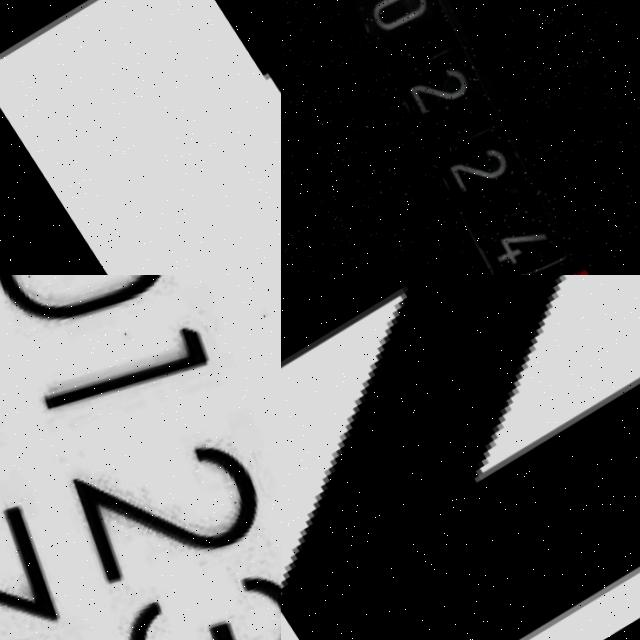0: (0, 275, 217, 379), (354, 0, 438, 43)
1: (5, 280, 242, 469)
2: (31, 392, 281, 629), (392, 55, 477, 128), (431, 131, 516, 203)
3: (73, 524, 281, 640)
4: (471, 210, 552, 275)
7: (0, 453, 106, 640)
N: (281, 275, 640, 640)
